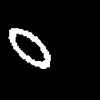chain: (9, 28, 50, 68)
